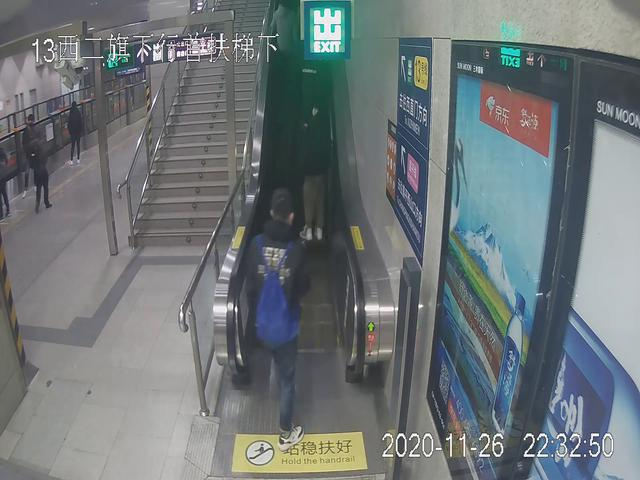person: (244, 192, 319, 451), (28, 130, 59, 214), (63, 103, 86, 162)
